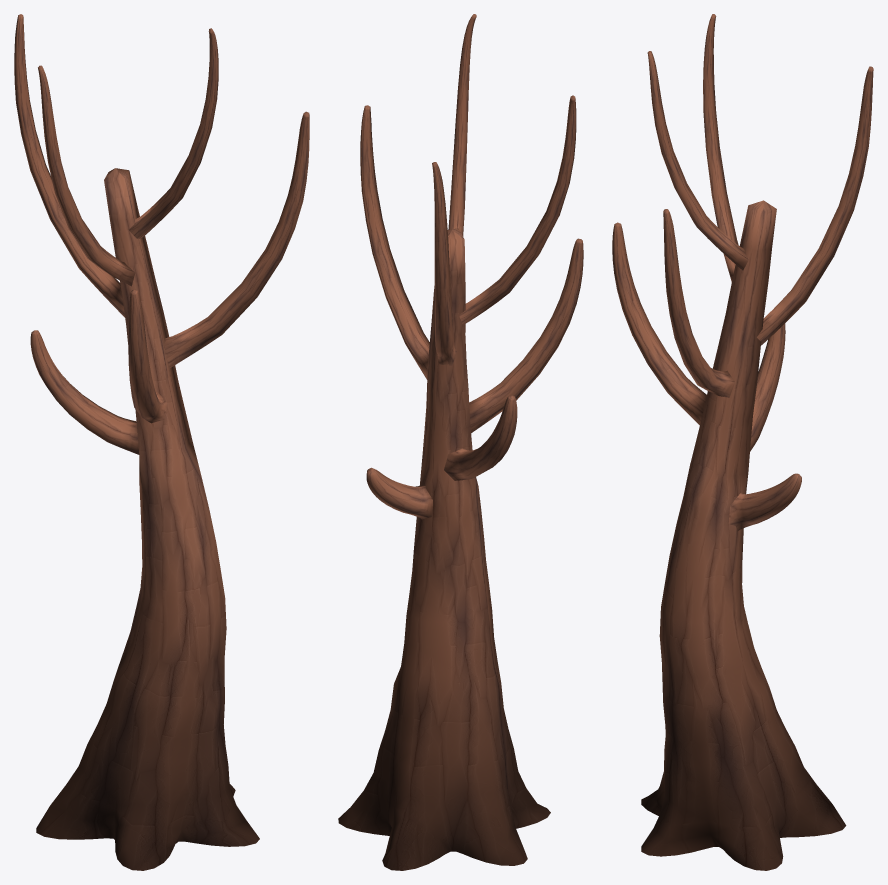
File: commontree_5_bare.gltf
3 renders of one model, left to right at view 1: azimuth 30°, elevation 25°; view 2: azimuth 150°, elevation 25°; view 3: azimuth 270°, elevation 25°, orthographic. The views are drawn at different scales.
Visible parts, largest first — view 1: commontree_5_bare; view 2: commontree_5_bare; view 3: commontree_5_bare.
Part boxes in pixels (x1,y1,x2,y2): commontree_5_bare: (14,14,309,870); commontree_5_bare: (338,14,583,870); commontree_5_bare: (612,14,873,870).
Size of the model in its own units: 1.8 by 5.7 by 1.73.
Materials: 1 (1 with a texture image).
